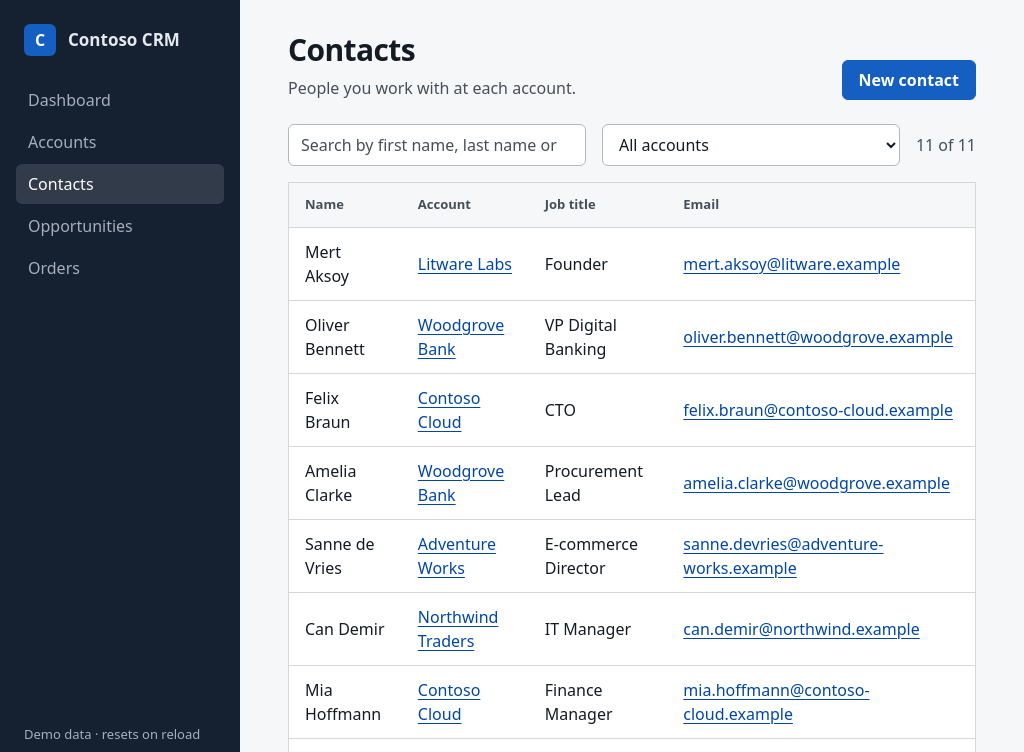
Scenario: Contacts › filters by account and preserves last-name ordering and contact links
Step 1. Select "Woodgrove Bank" in the dropdown named "Account" → x=751, y=145, box [602, 124, 900, 166]
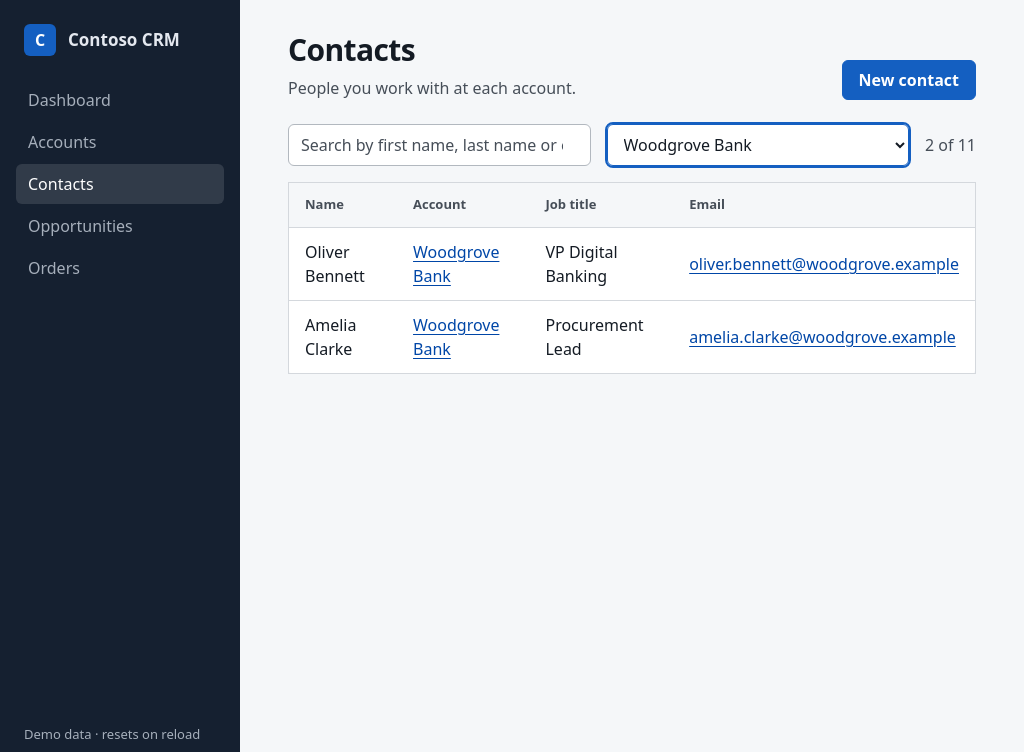
Expected: the text "2 of 11" is shown, [925, 133, 976, 157]
